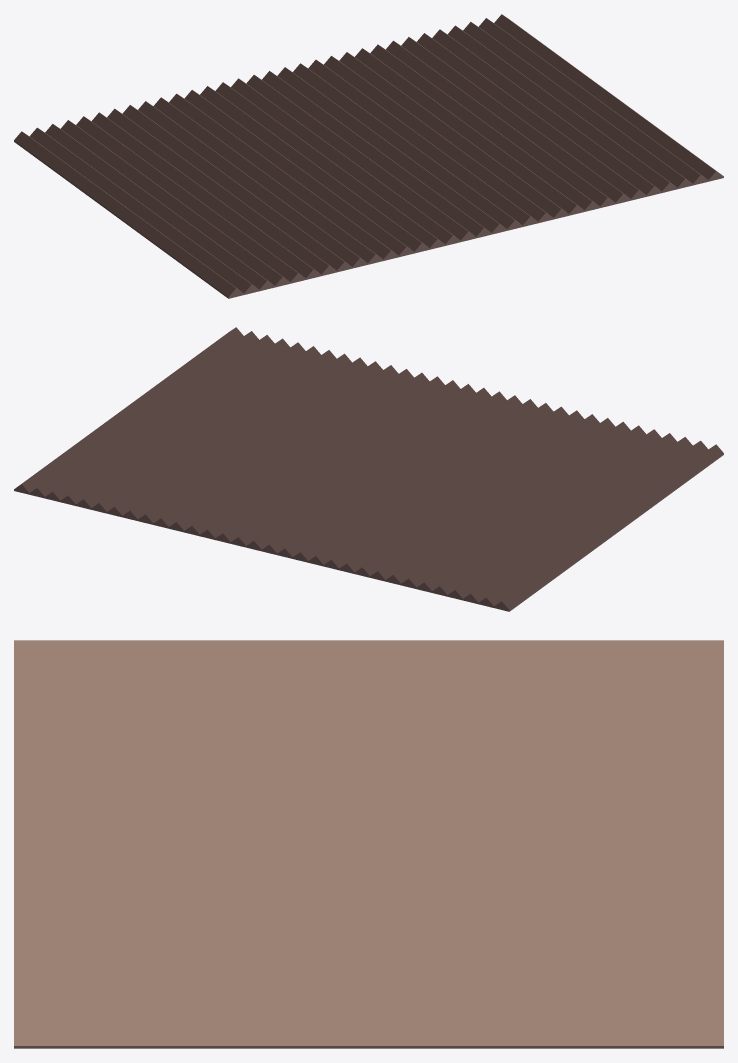
The model's file is FMS_Mach_Demo_FieldPloughed.fbx.
The picture shows the model from 3 angles, top to bottom: view 1: azimuth 30°, elevation 25°; view 2: azimuth 150°, elevation 25°; view 3: azimuth 270°, elevation 25°; orthographic projection. The views are drawn at different scales.
Parts seen in each view (by area): view 1: FieldPloughed; view 2: FieldPloughed; view 3: FieldPloughed.
Part boxes in pixels (left/top/right/bottom): FieldPloughed: left=14, top=14, right=723, bottom=298; FieldPloughed: left=14, top=327, right=723, bottom=611; FieldPloughed: left=14, top=640, right=723, bottom=1048.
Size of the model in its own units: 16 by 0.27 by 12.
